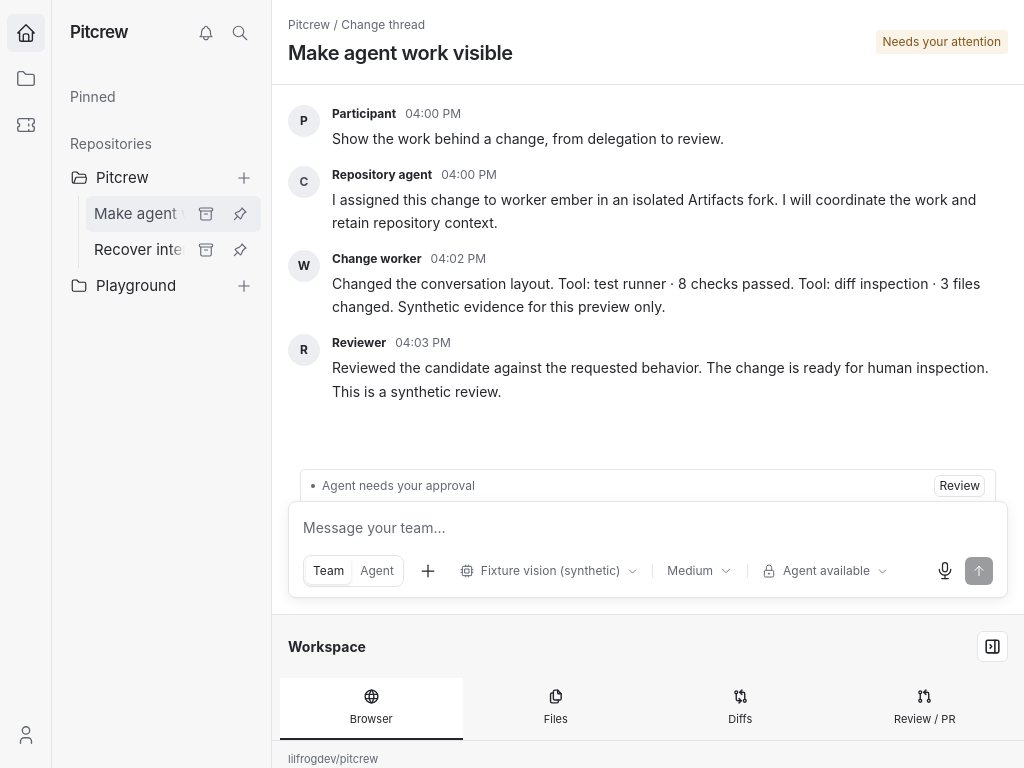
Scenario: starts only on click, forces local processing, appends editable final text once and never sends
The image size is (1024, 768).
Expected: the text "Show the work behind a change, from delegation to review." is shown, top-left (332, 130), bottom-right (724, 147)
Type "Existing draft" into the dropdown named "Message your crew" at (648, 528), box top-left (303, 516), bottom-right (993, 540)
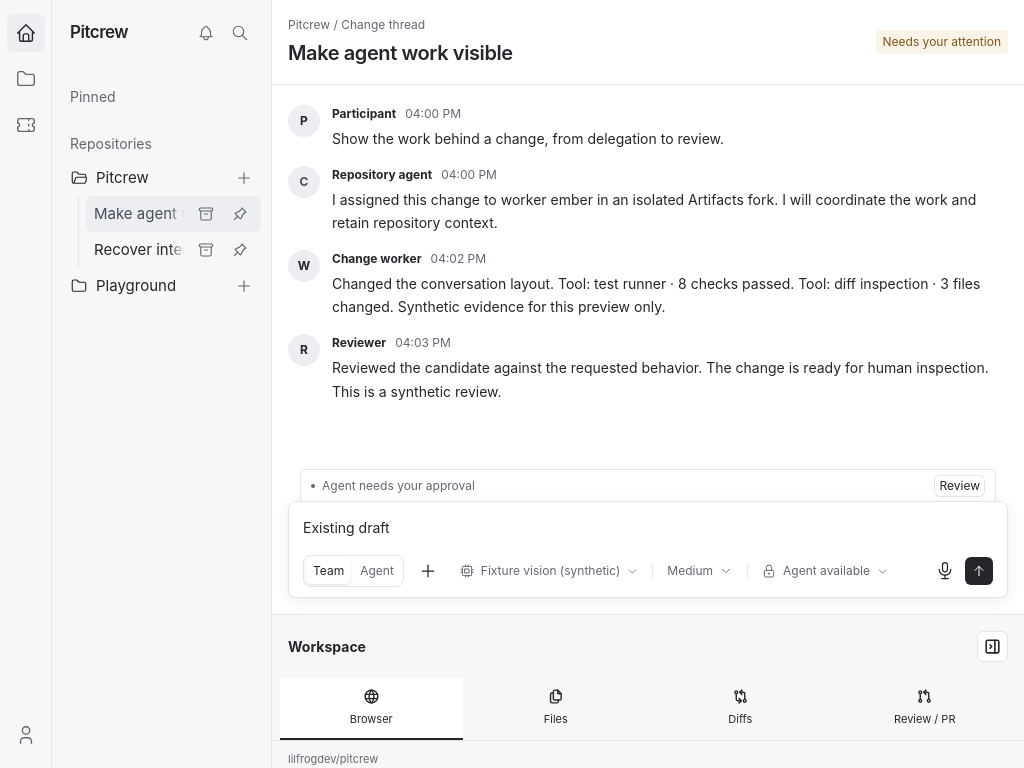
Click the button named "Dictate message" at (945, 571), box top-left (929, 555), bottom-right (961, 587)
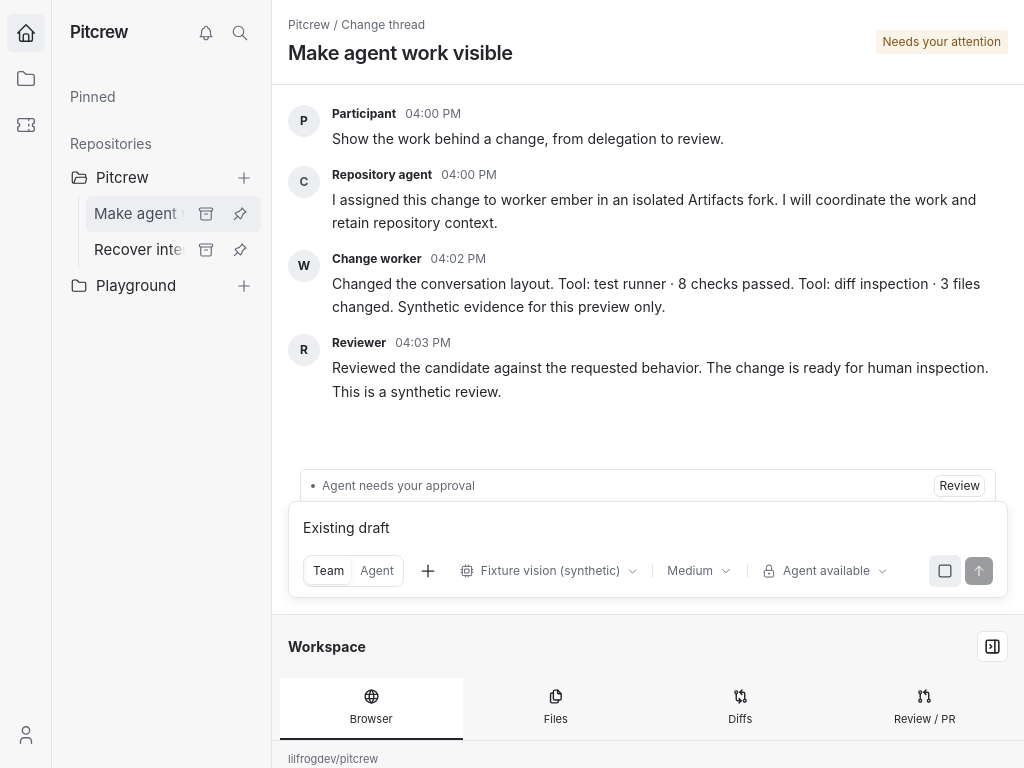
Replace the text in the dropdown named "Message your crew" with "Edited draft" at (648, 528), box top-left (303, 516), bottom-right (993, 540)
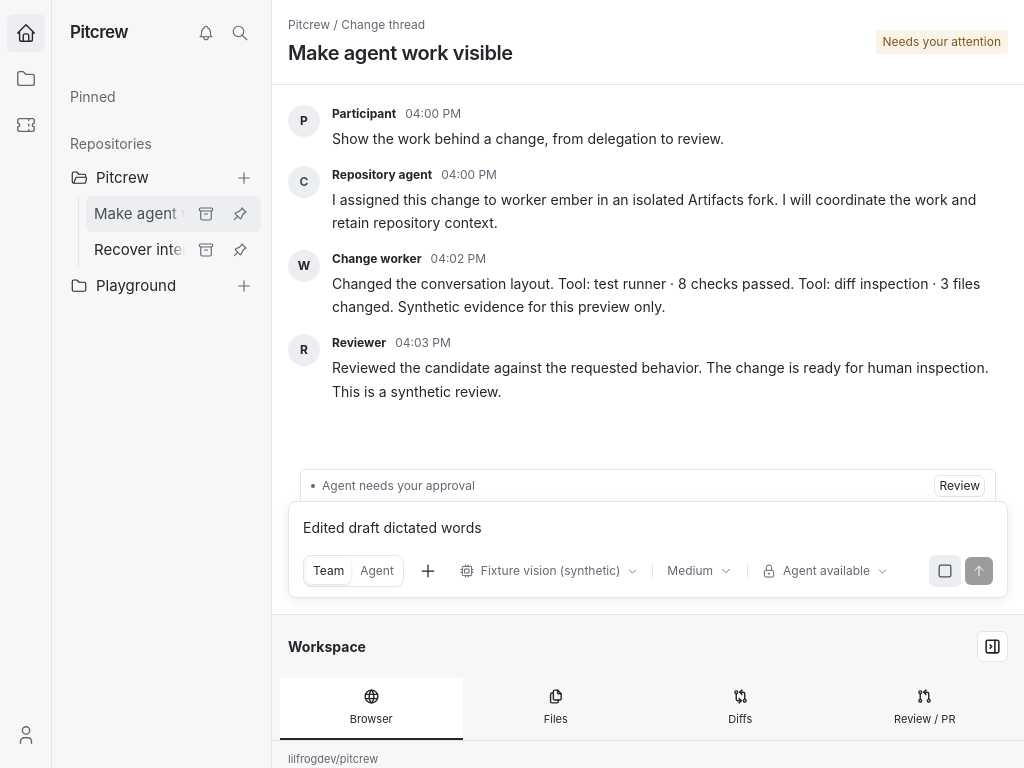
Expected: the dropdown named "Message your crew" holds "Edited draft dictated words"
Press Enter in the dropdown named "Message your crew", box top-left (303, 516), bottom-right (993, 540)
Expected: the button named "Send message" is disabled, top-left (965, 557), bottom-right (993, 585)
Click the button named "Stop dictation" at (945, 571), box top-left (929, 555), bottom-right (961, 587)
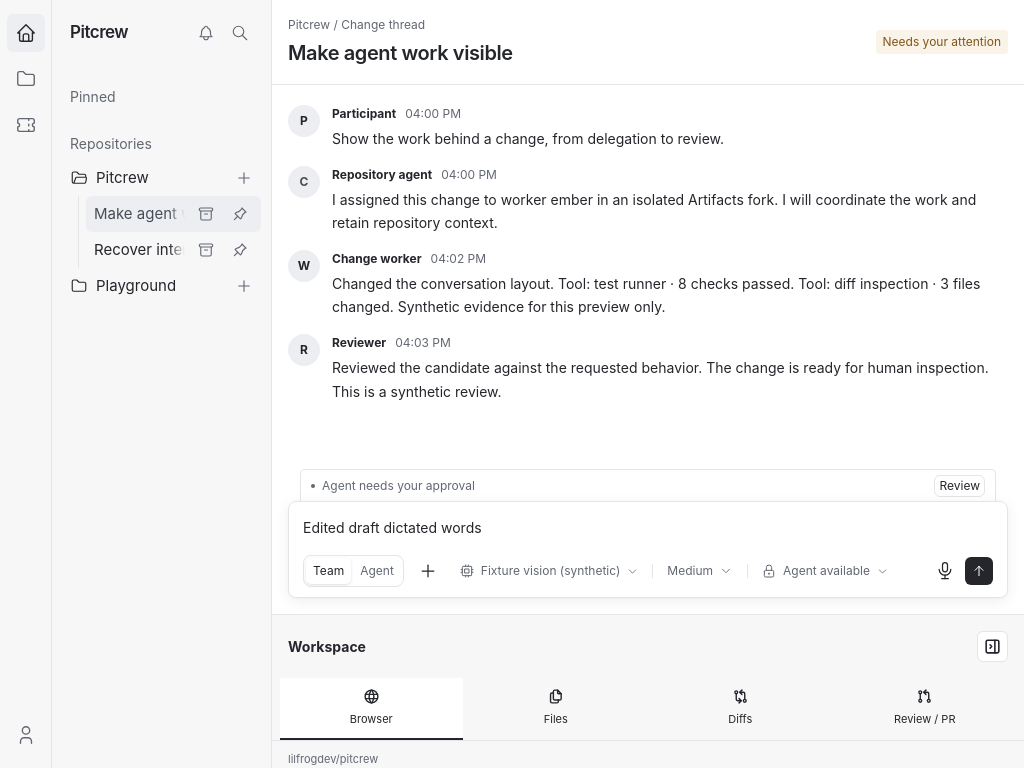
Expected: the button named "Send message" is enabled, top-left (965, 557), bottom-right (993, 585)
